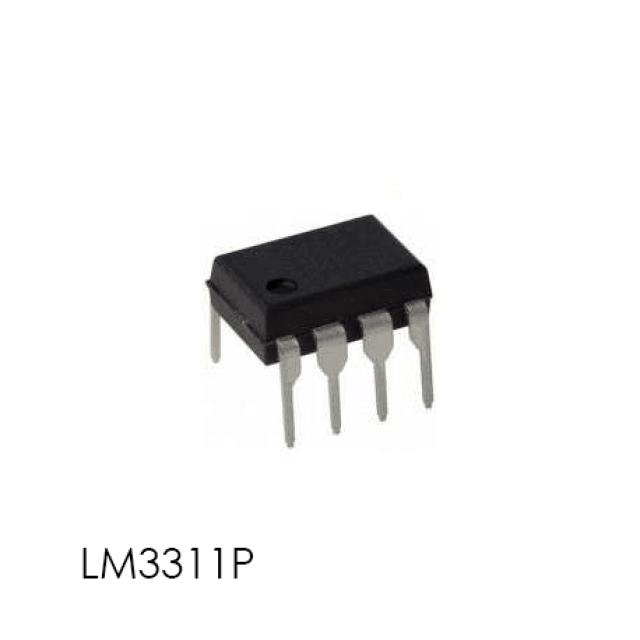IC: (205, 215, 434, 446)
